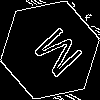M: (25, 25, 85, 86)
